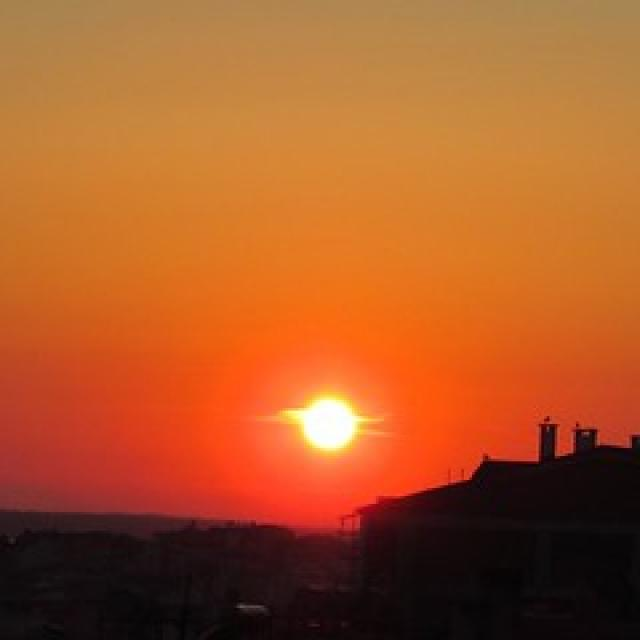sun: (275, 374, 386, 468)
